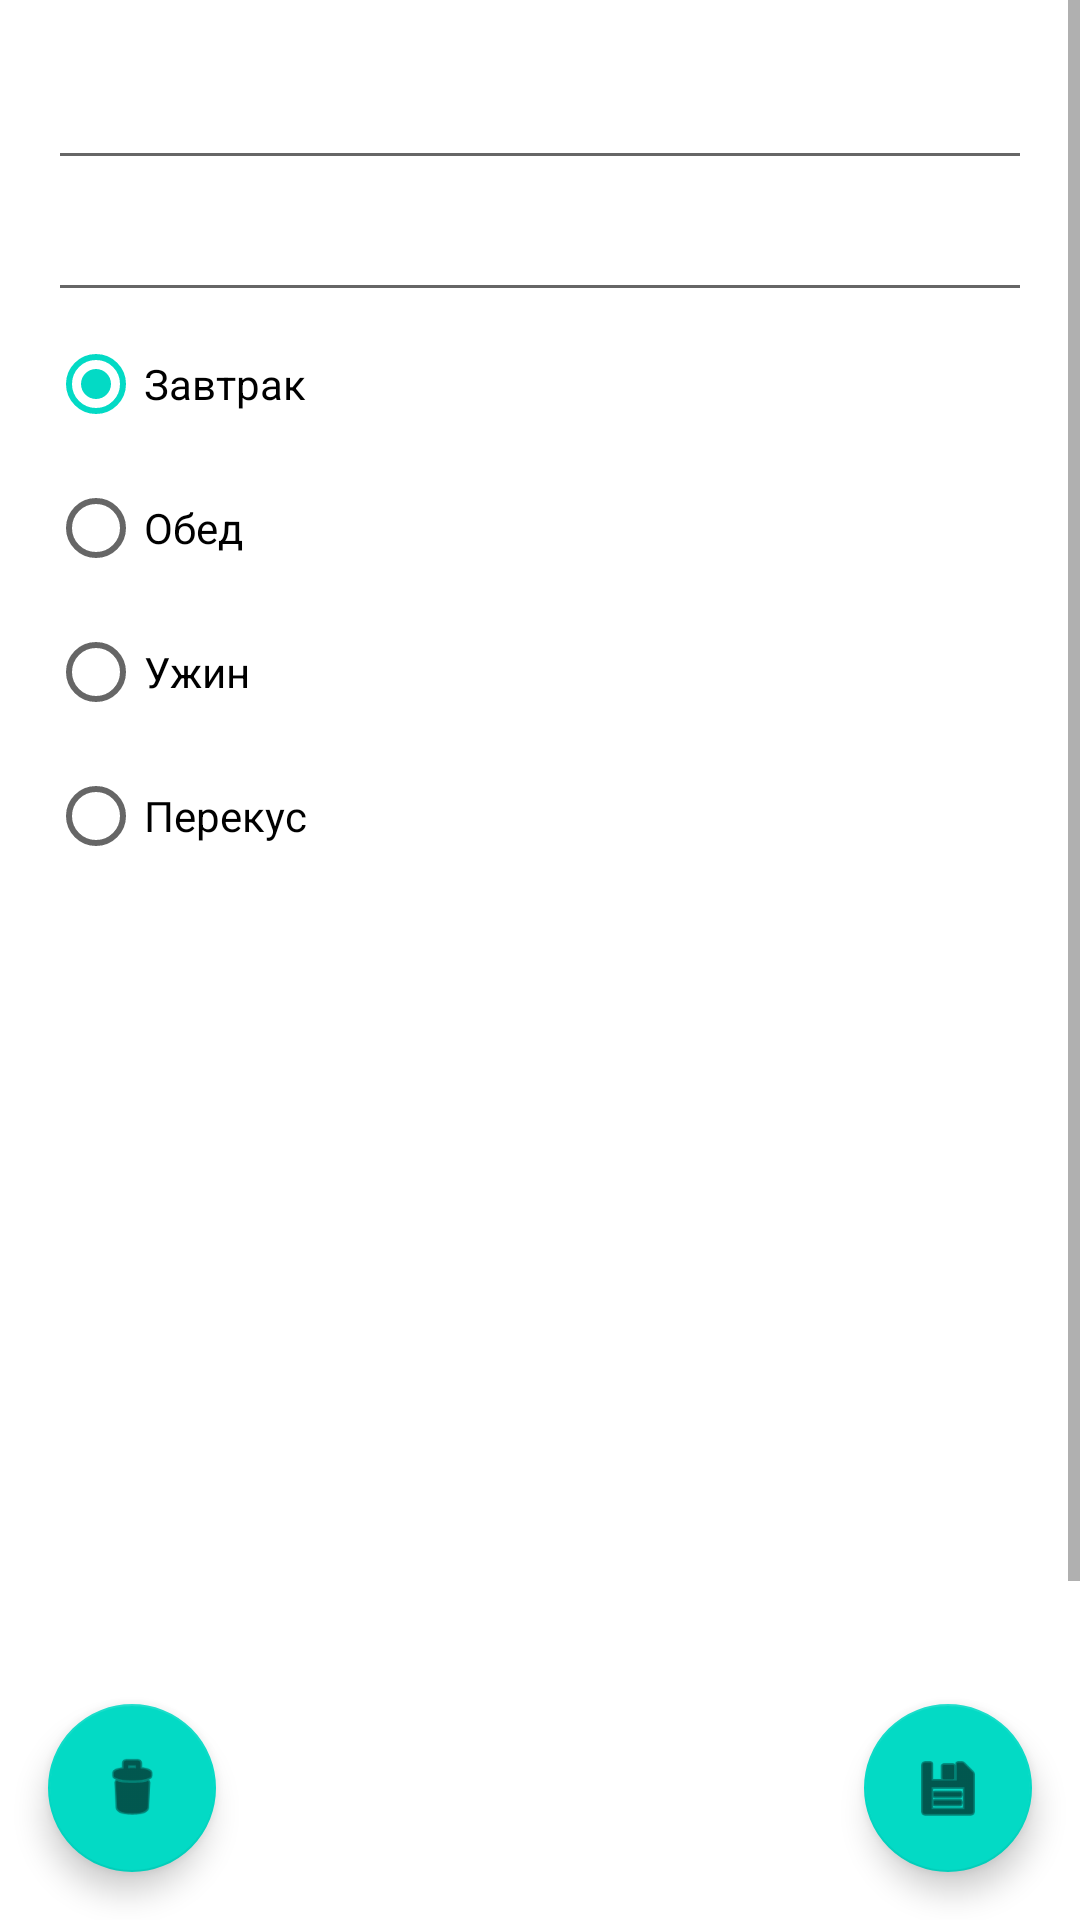

Locate icon controls on the screen. Image size 1080px x 1920px, boxes as rect(x1, y1, x2, y2).
delete: rect(48, 1704, 216, 1872)
save: rect(864, 1704, 1032, 1872)
